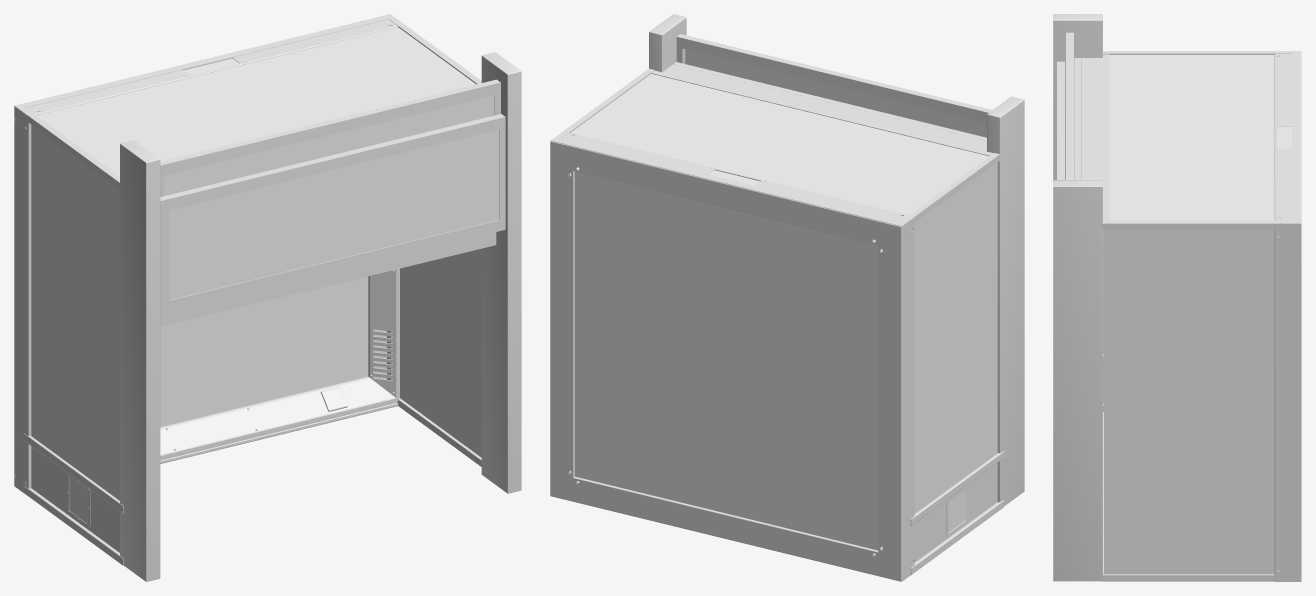
Rendered from demo_webp.glb.
3 views of the same model, side by side, from view 1: azimuth 30°, elevation 25°; view 2: azimuth 150°, elevation 25°; view 3: azimuth 270°, elevation 25° (orthographic). The views are drawn at different scales.
Visible parts, largest first — view 1: Würfel.006, Window.004, Glas, Window.001, Abzug rechts, Window.002, Würfel.012, Window.003, Window.006, Blende, Window; view 2: Window.002, Abzug rechts, Window.001, Glas, Würfel.006, Würfel.012, Window.006, Blende; view 3: Window.003, Würfel.006, Window.001, Abzug rechts, Würfel.012.
Boxes of the visible parts, x1,y1,x2,y2 form: Würfel.006: [14, 14, 521, 581]; Window.004: [169, 129, 498, 300]; Glas: [26, 125, 119, 500]; Window.001: [36, 25, 475, 176]; Abzug rechts: [14, 19, 399, 495]; Window.002: [160, 276, 386, 427]; Würfel.012: [160, 79, 505, 326]; Window.003: [400, 248, 481, 457]; Window.006: [164, 95, 494, 195]; Blende: [23, 433, 123, 565]; Window: [25, 126, 87, 523]; Window.002: [568, 167, 883, 556]; Abzug rechts: [550, 133, 914, 581]; Window.001: [571, 74, 988, 216]; Glas: [914, 162, 997, 513]; Würfel.006: [550, 14, 1024, 570]; Würfel.012: [673, 34, 992, 140]; Window.006: [685, 49, 986, 137]; Blende: [910, 451, 1004, 574]; Window.003: [1103, 229, 1280, 574]; Würfel.006: [1053, 14, 1301, 581]; Window.001: [1110, 55, 1291, 220]; Abzug rechts: [1274, 51, 1301, 581]; Würfel.012: [1057, 32, 1080, 179].
Size of what is drawn, in the model's own units: 150 by 160 by 91.24.
3 materials, 1 textured.
